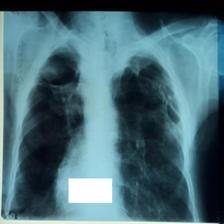tuberculosis: (1, 35, 202, 223)
